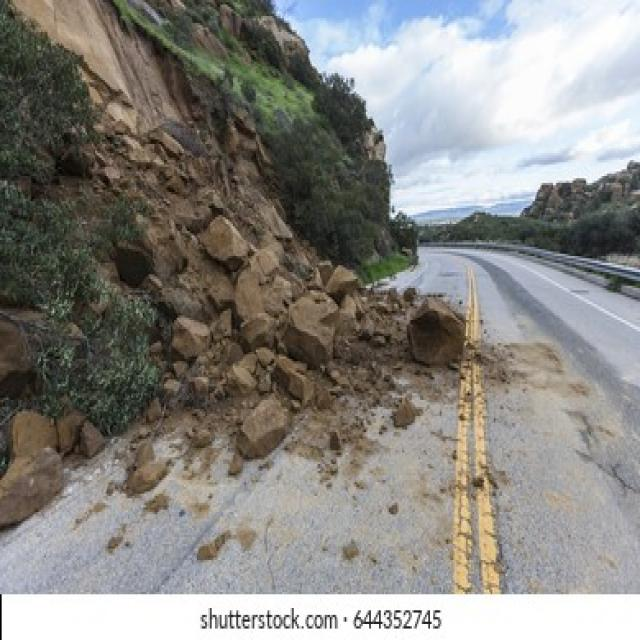landSliding: (99, 128, 637, 543)
